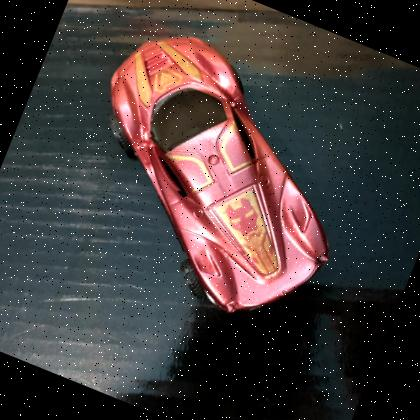Car: (41, 11, 390, 344)
